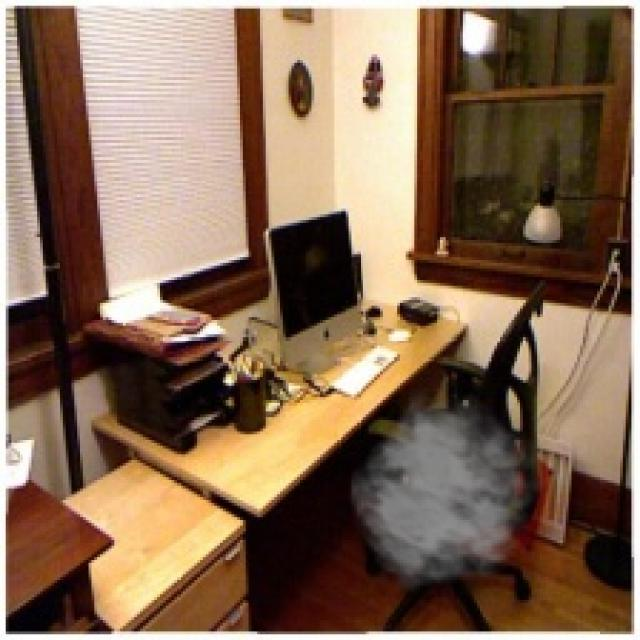Smoke: (348, 388, 548, 592)
